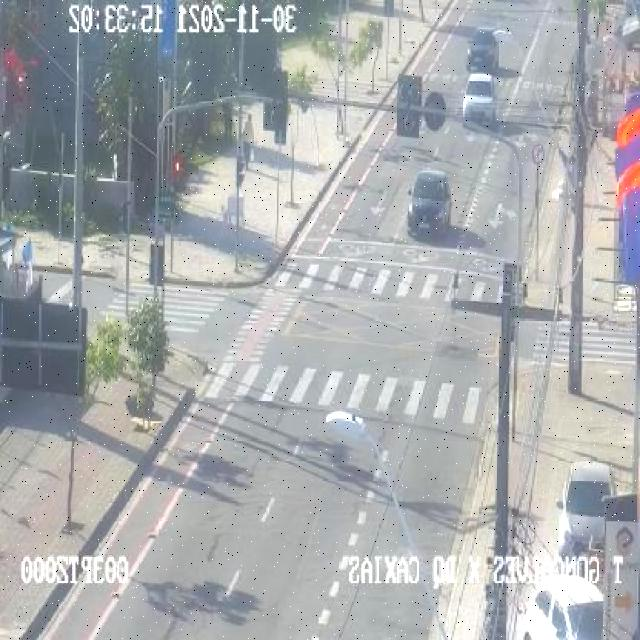car: (557, 456, 620, 564), (524, 578, 606, 640), (406, 168, 452, 236), (462, 73, 495, 121), (466, 26, 500, 71)
motorbike: (240, 112, 253, 170), (274, 40, 282, 69)
